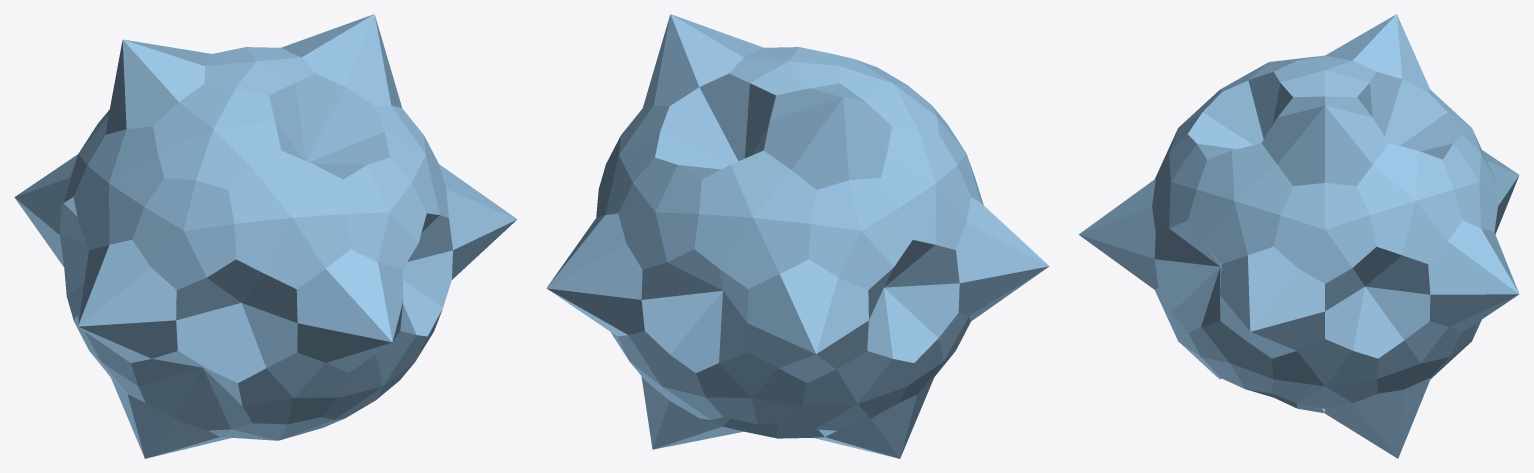
Rendered from bacteria.fbx.
3 renders of one model, left to right at view 1: azimuth 30°, elevation 25°; view 2: azimuth 150°, elevation 25°; view 3: azimuth 270°, elevation 25°, orthographic. The views are drawn at different scales.
Visible parts, largest first — view 1: Icosphere; view 2: Icosphere; view 3: Icosphere.
Part boxes in pixels (x1=…): Icosphere: x1=14, y1=14, x2=517, y2=458; Icosphere: x1=546, y1=14, x2=1049, y2=458; Icosphere: x1=1078, y1=14, x2=1519, y2=458.
Size of the model in its own units: 241 by 210 by 231.
